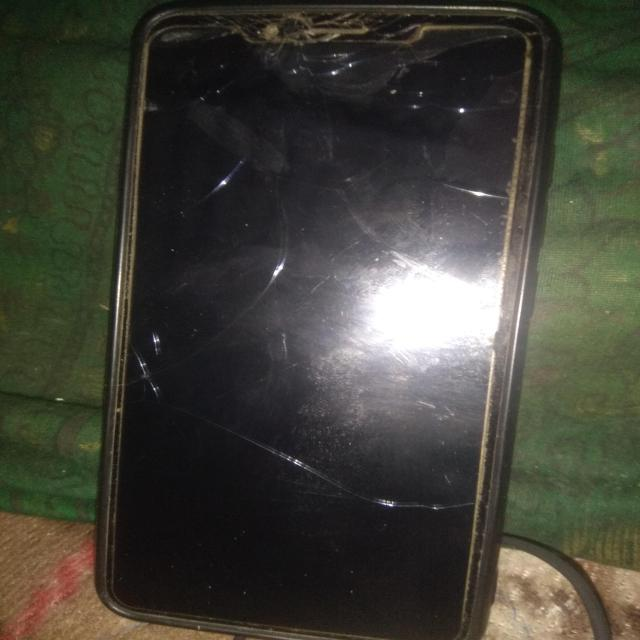mobile-phone: (74, 9, 541, 629)
